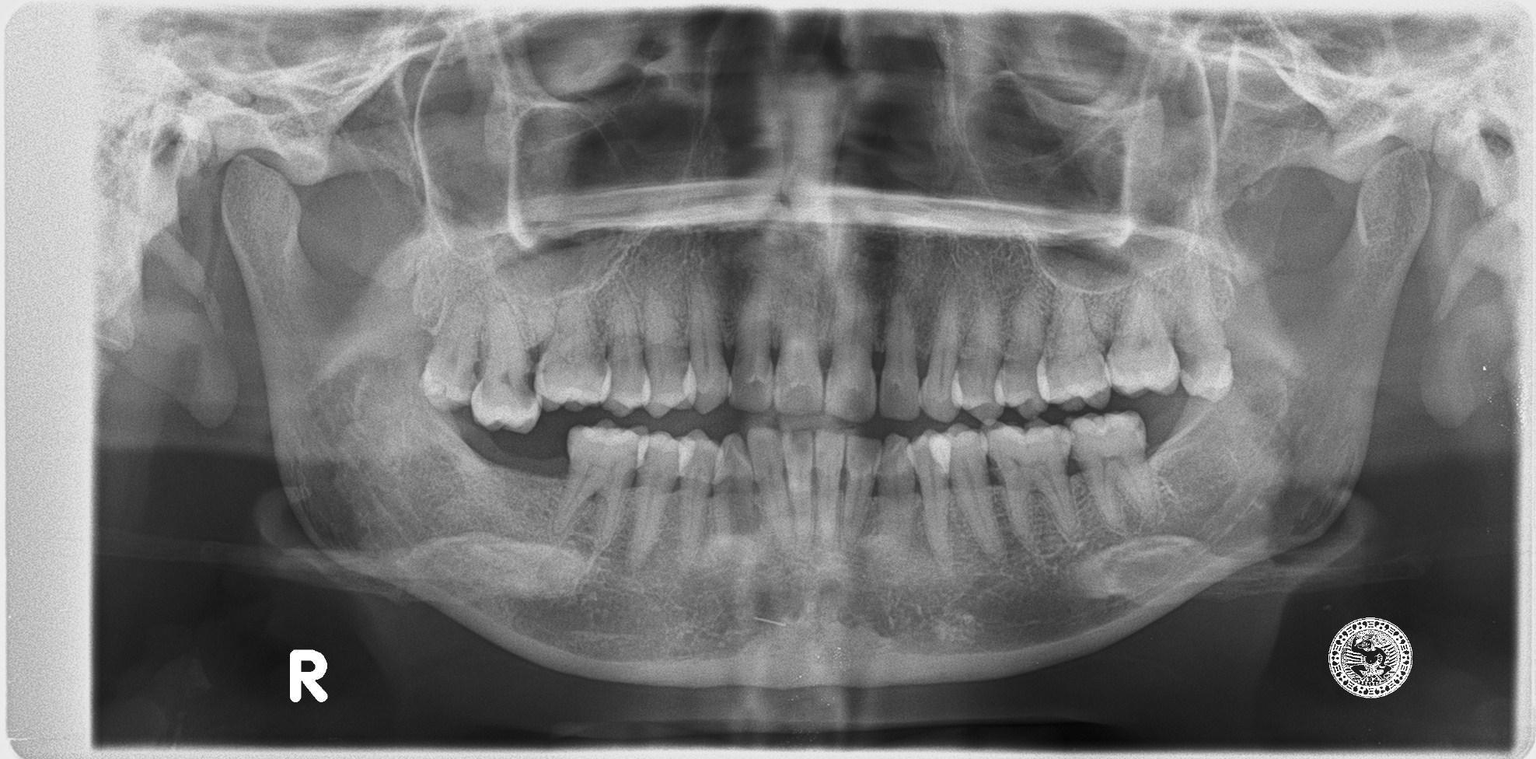Individual Tooth: (546, 422, 649, 550), (1060, 413, 1160, 541), (977, 417, 1081, 540), (934, 427, 1010, 566), (469, 293, 540, 431), (626, 431, 693, 567), (1039, 284, 1111, 410), (531, 299, 610, 407), (1105, 289, 1183, 395), (415, 299, 487, 410), (992, 297, 1053, 418), (773, 273, 826, 412), (906, 431, 957, 574), (640, 289, 697, 416), (682, 276, 734, 414), (952, 287, 1005, 422), (725, 278, 777, 413), (823, 289, 876, 419), (596, 292, 651, 416), (678, 429, 721, 567), (710, 435, 755, 564), (1176, 296, 1231, 400), (880, 436, 921, 571), (750, 427, 796, 545), (919, 301, 962, 421), (842, 438, 884, 551), (880, 303, 921, 418), (815, 429, 846, 552), (781, 428, 812, 548)
